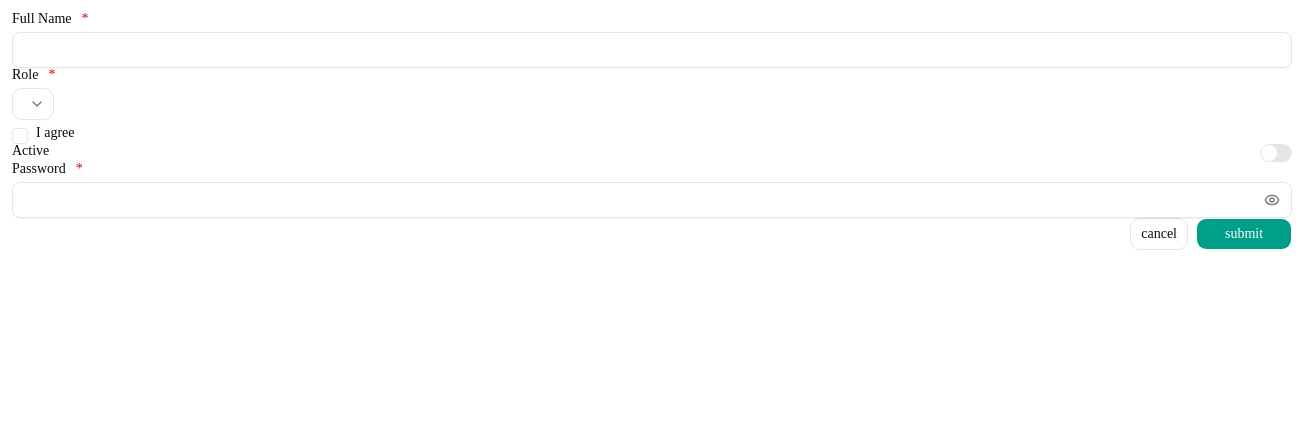
Test: TextField › shows validation error on submit with empty value
Click the button "submit".
click(1244, 234)  # box [1196,218,1292,250]
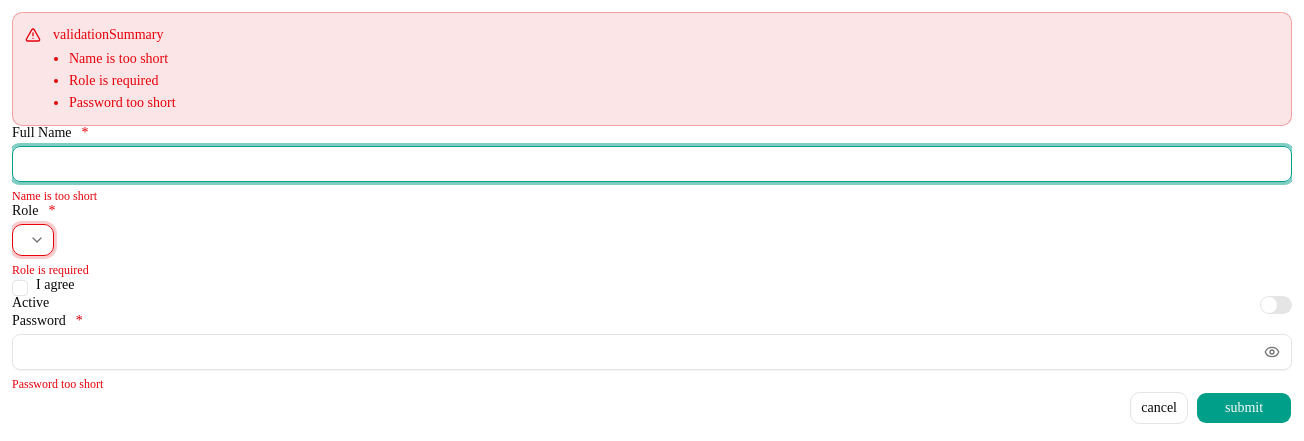
expect the message "validationSummary Name is too short Role is required Password too short" is shown: met, box [12,12,1292,126]
